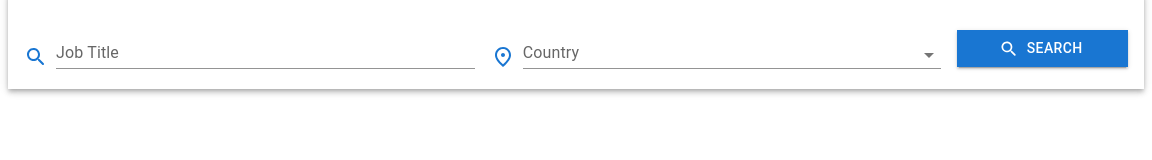
Test: <SearchJobForm /> › should validate
The width and height of the screenshot is (1152, 160).
Click the button with test id "TLLoadingButton" at (1043, 49), box [957,30,1128,67]
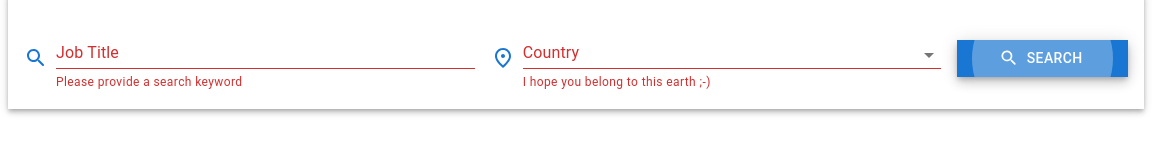
Expected: the text with test id "SearchJobForm.Keyword.HelperText" reads "Please provide a search keyword", [56,75,243,89]
Expected: the text with test id "SearchJobForm.Country.HelperText" reads "I hope you belong to this earth ;-)", [523,75,711,89]
